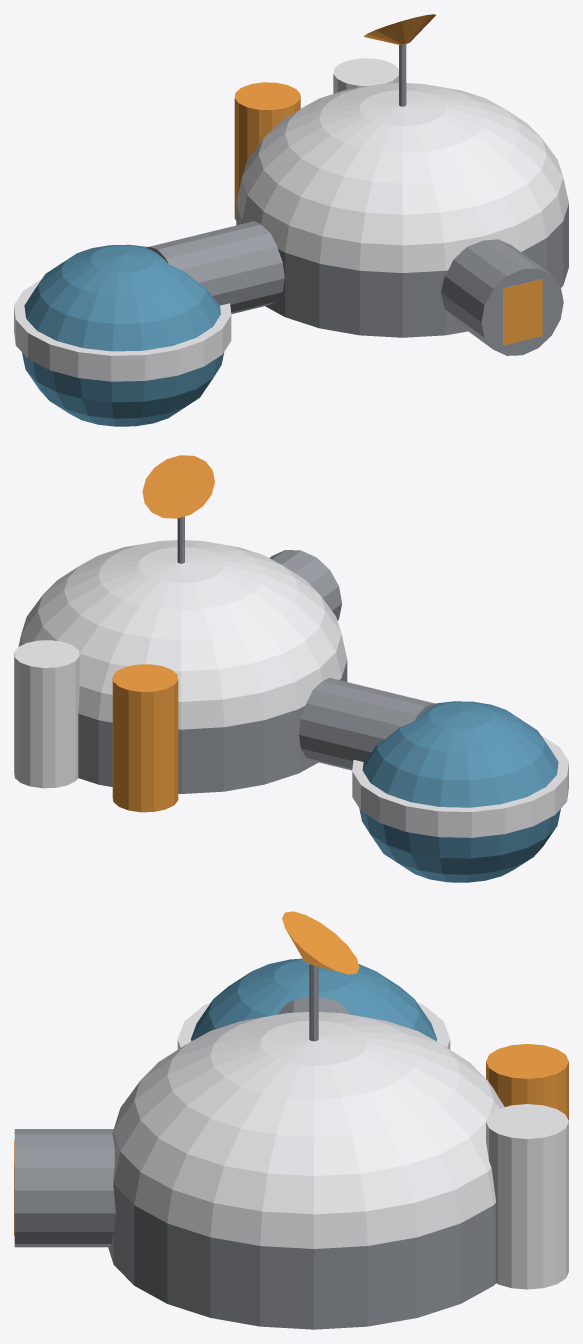
Rendered from tambo-alfa.glb.
The picture shows the model from 3 angles, top to bottom: view 1: azimuth 30°, elevation 25°; view 2: azimuth 150°, elevation 25°; view 3: azimuth 270°, elevation 25°; orthographic projection. The views are drawn at different scales.
Parts seen in each view (by area): view 1: Tambo_Alfa_Core, Hydroponics_Dome, Habitat_Base_Central, Airlock_Tunnel, Hydroponics_Base, Connector_Tunnel, LifeSupport_Tank_01, Airlock_Door, LifeSupport_Tank_02, Chaski_Antenna_Dish; view 2: Tambo_Alfa_Core, Hydroponics_Dome, Habitat_Base_Central, LifeSupport_Tank_01, LifeSupport_Tank_02, Hydroponics_Base, Connector_Tunnel, Chaski_Antenna_Dish, Airlock_Tunnel; view 3: Tambo_Alfa_Core, Habitat_Base_Central, LifeSupport_Tank_02, Airlock_Tunnel, Hydroponics_Dome, LifeSupport_Tank_01, Chaski_Antenna_Dish, Hydroponics_Base, Chaski_Antenna_Mast, Connector_Tunnel.
Part boxes in pixels (x1,y1,x2,y2): Tambo_Alfa_Core: (236,83,568,272); Hydroponics_Dome: (22,244,224,426); Habitat_Base_Central: (236,203,568,337); Airlock_Tunnel: (441,239,563,355); Hydroponics_Base: (14,279,231,381); Connector_Tunnel: (147,221,284,314); LifeSupport_Tank_01: (234,82,300,220); Airlock_Door: (503,279,542,345); LifeSupport_Tank_02: (333,58,398,93); Chaski_Antenna_Dish: (364,14,435,45); Tambo_Alfa_Core: (18,540,347,729); Hydroponics_Dome: (359,701,560,882); Habitat_Base_Central: (78,660,347,793); LifeSupport_Tank_01: (112,664,178,812); LifeSupport_Tank_02: (14,640,79,788); Hydroponics_Base: (352,735,568,837); Connector_Tunnel: (299,677,436,770); Chaski_Antenna_Dish: (142,455,214,518); Airlock_Tunnel: (269,550,341,620); Tambo_Alfa_Core: (112,1012,504,1248); Habitat_Base_Central: (108,1183,496,1329); LifeSupport_Tank_02: (486,1104,568,1289); Airlock_Tunnel: (14,1129,115,1247); Hydroponics_Dome: (190,958,437,1041); LifeSupport_Tank_01: (486,1044,568,1120); Chaski_Antenna_Dish: (282,911,359,974); Hydroponics_Base: (177,1002,450,1049); Chaski_Antenna_Mast: (309,964,318,1041); Connector_Tunnel: (277,997,350,1014).
Bounding box in the file's own units: 12.6 × 7.89 × 9.36.
